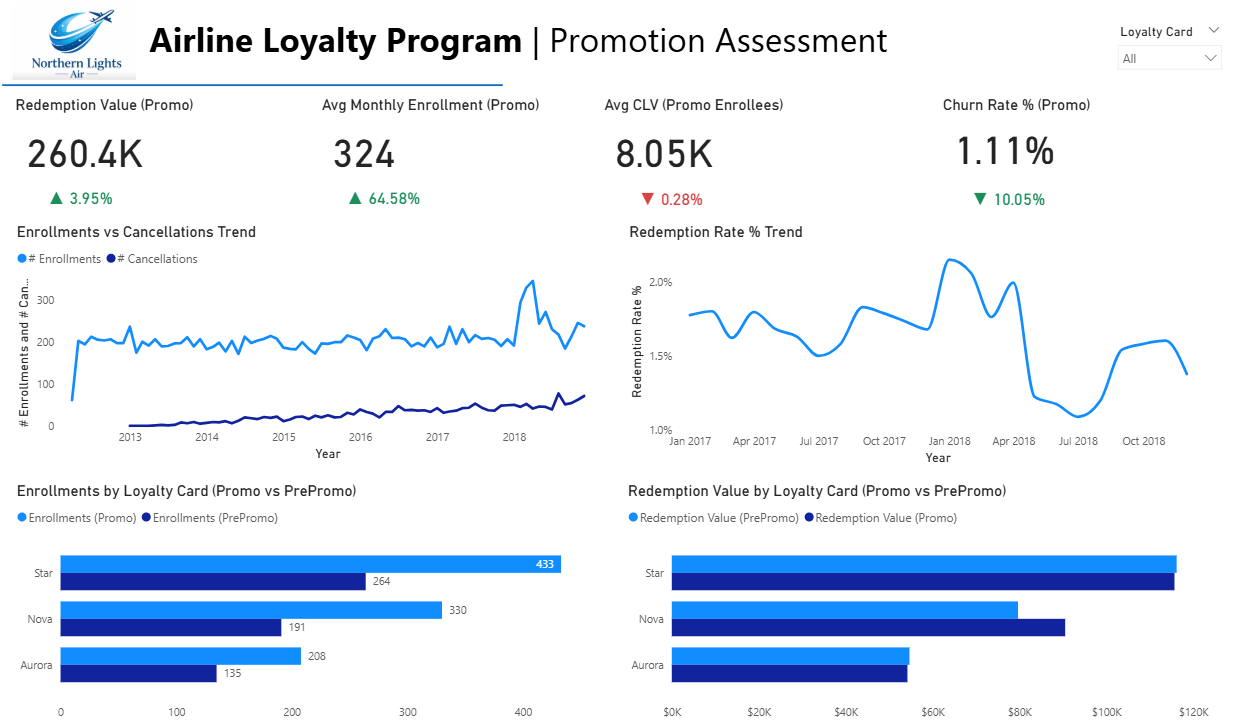

This screenshot's page, from the dashboard's own definition file:
{"tool":"powerbi","page":{"name":"Promotion Assessment","canvas":[1400,820],"ordinal":5},"visuals":[{"type":"cardVisual","title":"Redemption Value (Promo)","fields":{"Data":["Measure Table.Total Revenue (Promo)"]},"box":[17.3,114,314.6,101],"z":0},{"type":"cardVisual","fields":{"Data":["Measure Table.Revenue Change Arrow"]},"box":[40.4,206.4,141.4,36.1],"z":1000},{"type":"cardVisual","title":"Avg Monthly Enrollment (Promo)","fields":{"Data":["Measure Table.Avg Monthly Enrollment (Selected)"]},"box":[357.9,114,294.4,101],"z":2000},{"type":"cardVisual","fields":{"Data":["Measure Table.Enrollment vs PrePromo Label"]},"box":[373.8,207.8,131.3,34.6],"z":3000},{"type":"cardVisual","title":"Avg CLV (Promo Enrollees)","fields":{"Data":["Measure Table.Avg CLV (Promo Enrollees)"]},"box":[672.6,114,327.6,101],"z":4000},{"type":"cardVisual","fields":{"Data":["Measure Table.CLV vs PrePromo Label"]},"box":[699.1,207.5,150.4,36.2],"z":5000},{"type":"textbox","box":[166,20.9,1012,66.1],"z":6000},{"type":"lineChart","title":"Redemption Rate % Trend","fields":{"Y":["Measure Table.Redemption Rate %"],"Category":["Dim_Date.Date.Variation.Date Hierarchy.Year","Dim_Date.Date.Variation.Date Hierarchy.Month","Dim_Date.Date.Variation.Date Hierarchy.Day"]},"box":[700.2,255.8,655.4,274.9],"z":7000},{"type":"cardVisual","title":"Churn Rate % (Promo)","fields":{"Data":["Measure Table.Churn Rate % (Promo)"]},"box":[1050.7,114,225.2,93.8],"z":8000},{"type":"cardVisual","fields":{"Data":["Measure Table.Churn vs PrePromo Label"]},"box":[1069.5,204.9,153,40.4],"z":9000},{"type":"lineChart","title":"Enrollments vs Cancellations Trend","fields":{"Y":["Measure Table.# Enrollments","Measure Table.# Cancellations"],"Category":["Dim_Date.Date.Variation.Date Hierarchy.Year","Dim_Date.Date.Variation.Date Hierarchy.Quarter","Dim_Date.Date.Variation.Date Hierarchy.Month","Dim_Date.Date.Variation.Date Hierarchy.Day"]},"box":[17.6,255.8,655.4,270.2],"z":10000},{"type":"clusteredBarChart","title":"Enrollments by Loyalty Card (Promo vs PrePromo)","fields":{"Category":["Dim_Customer.Loyalty Card"],"Y":["Measure Table.Enrollments (Promo)","Measure Table.Enrollments (PrePromo)"]},"box":[17.6,545.1,653.8,274.9],"z":11000},{"type":"clusteredBarChart","title":"Redemption Value by Loyalty Card (Promo vs PrePromo)","fields":{"Category":["Dim_Customer.Loyalty Card"],"Y":["Measure Table.Total Revenue (PrePromo)","Measure Table.Total Revenue (Promo)"]},"box":[698.6,545.1,657,274.9],"z":12000},{"type":"shape","box":[6.4,51.2,557.9,102.3],"z":13000},{"type":"slicer","fields":{"Values":["Dim_Customer.Loyalty Card"]},"box":[1239.5,29.2,136.5,85],"z":14000},{"type":"image","box":[0,5.6,174.1,96.1],"z":15000}]}

Visuals, with their boxes in screenshot pixels (x1, y1, x2, y2), scaled from the page's 1400x820 canvas onto the 1247x726 screenshot:
"Redemption Value (Promo)" cardVisual: rect(15, 101, 296, 190)
cardVisual - Measure Table.Revenue Change Arrow: rect(36, 183, 162, 215)
"Avg Monthly Enrollment (Promo)" cardVisual: rect(319, 101, 581, 190)
cardVisual - Measure Table.Enrollment vs PrePromo Label: rect(333, 184, 450, 215)
"Avg CLV (Promo Enrollees)" cardVisual: rect(599, 101, 891, 190)
cardVisual - Measure Table.CLV vs PrePromo Label: rect(623, 184, 757, 216)
textbox: rect(148, 19, 1049, 77)
"Redemption Rate % Trend" lineChart: rect(624, 226, 1207, 470)
"Churn Rate % (Promo)" cardVisual: rect(936, 101, 1136, 184)
cardVisual - Measure Table.Churn vs PrePromo Label: rect(953, 181, 1089, 217)
"Enrollments vs Cancellations Trend" lineChart: rect(16, 226, 599, 466)
"Enrollments by Loyalty Card (Promo vs PrePromo)" clusteredBarChart: rect(16, 483, 598, 725)
"Redemption Value by Loyalty Card (Promo vs PrePromo)" clusteredBarChart: rect(622, 483, 1207, 725)
shape: rect(6, 45, 503, 136)
slicer - Dim_Customer.Loyalty Card: rect(1104, 26, 1226, 101)
image: rect(0, 5, 155, 90)
